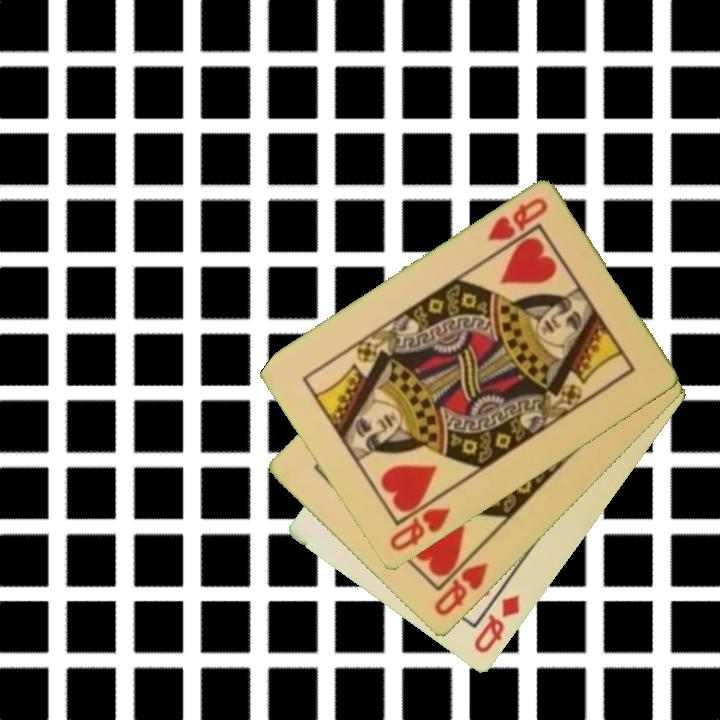Qd: (470, 591, 523, 657)
Qh: (430, 559, 491, 620), (483, 194, 551, 245), (385, 505, 454, 555)
